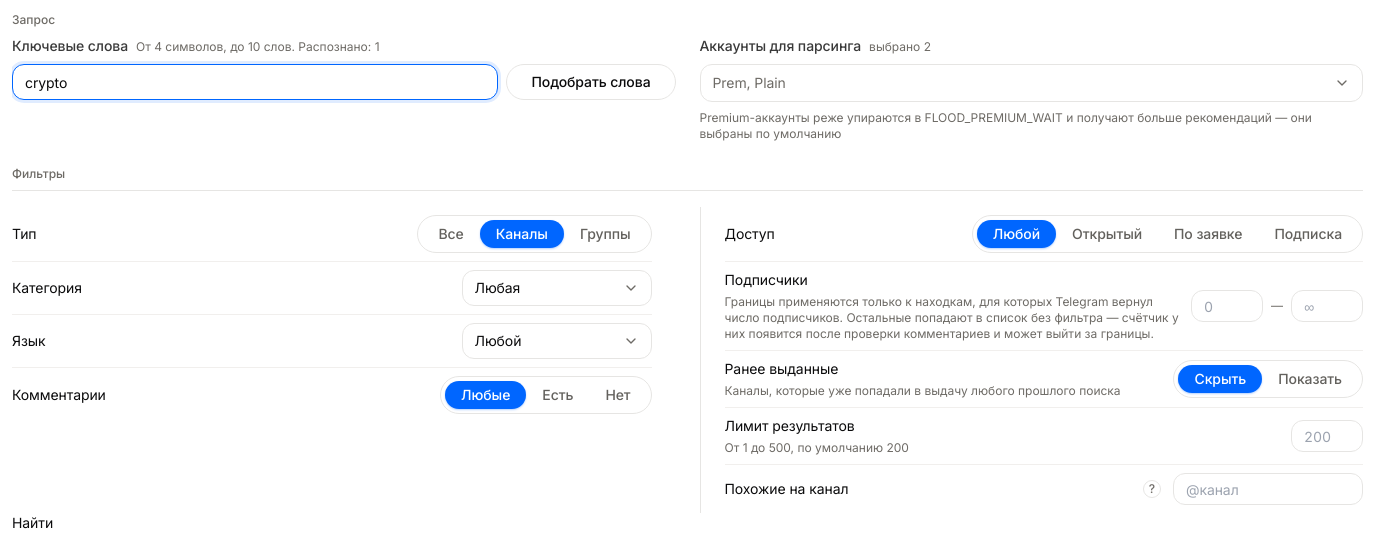
Test case: DiscoveryForm › writes a picked account into the form
Click the button "Prem, Plain".
click(749, 82)  # box [700,64,1363,102]
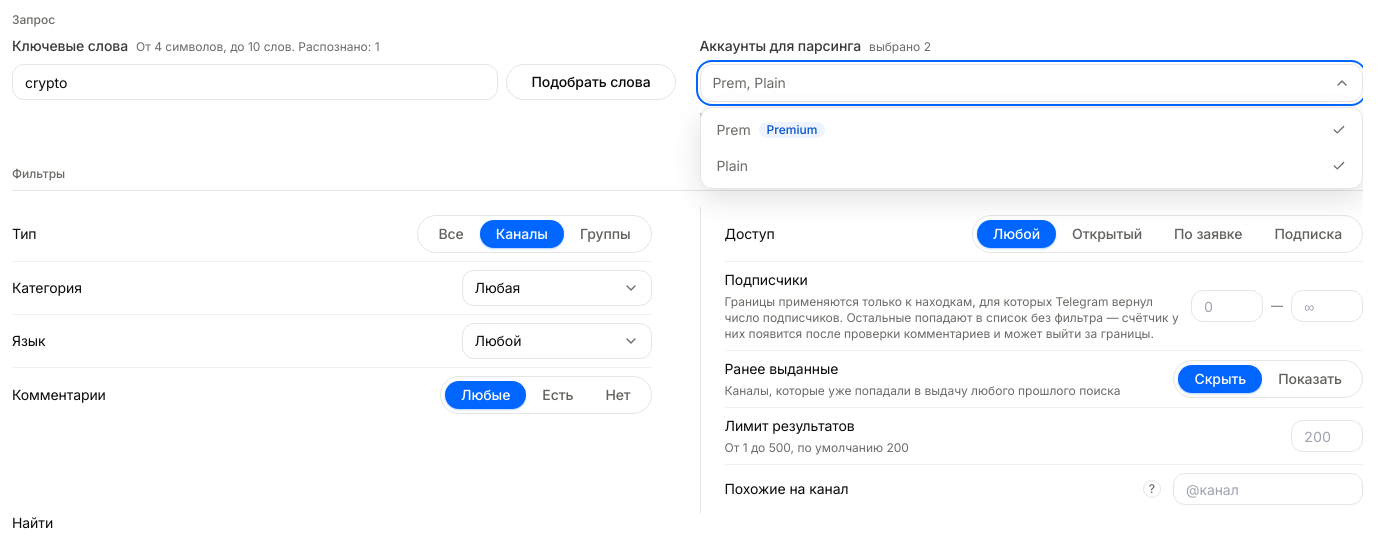
Click the option "Plain".
click(732, 166)  # box [704,148,1358,184]
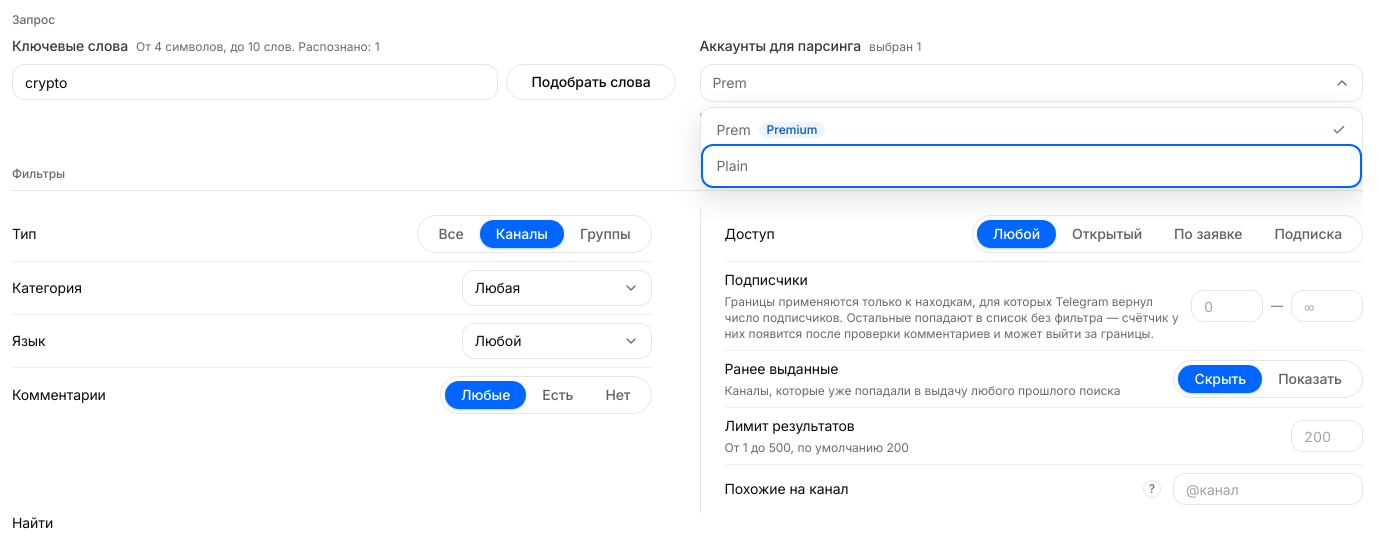
Expected: the button "Prem" is shown, [700,64,1363,102]
Expected: the text "выбран 1" is shown, [869,39,921,55]
